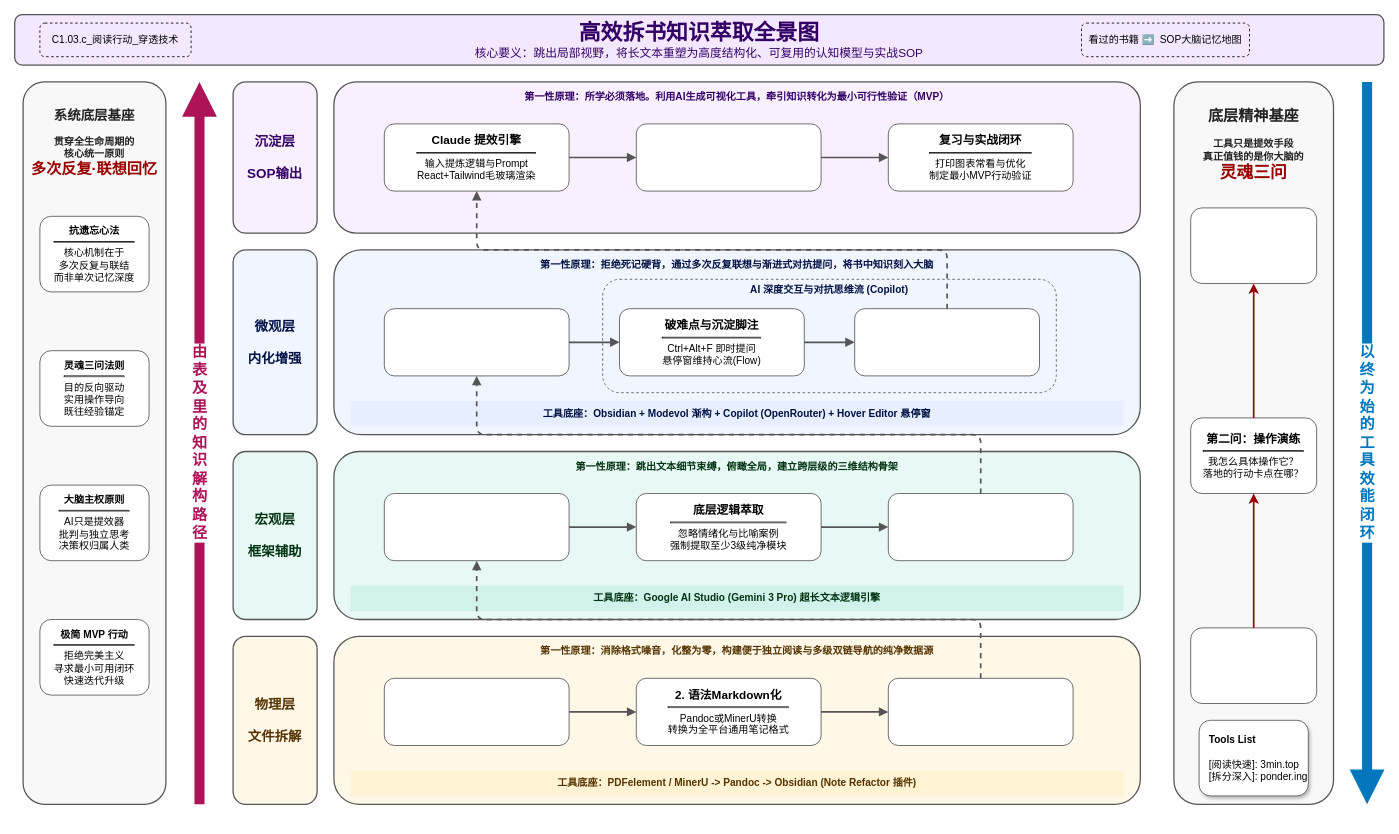
Some shapes in this 1399 by 834 pixel diagram are drawn without their labels. The centre of each missing label's shape, as x and y in pixels:
"1. 版式清洗 PDFelement-12+OCR提取 去除乱码与修正格式错误" belongs at (476,711).
"3. 章节切片与双链 按H1/H2标题切割文件 生成多级目录与双链导航" belongs at (980,711).
"一页清卡片生成 系统理论框架图输出 技术架构SOP图输出" belongs at (728,157).
"抓重点 (Modevol) 渐构标注段落核心目的 保持主旨不迷失于细节" belongs at (476,342).
"第一问：明确目的 我读这段目的是什么？ 知识如何为我所用？" belongs at (1253,245).
"第三问：同频校验 与我过去经验对比 有何创新与反共识？" belongs at (1253,665).
"红队批判与末尾QA 要求AI提供反面局限案例 生成百字QA辅助回忆复盘" belongs at (947,342).
"结构化骨架输出 用短词组渲染Markdown树 提炼一句话核心底层逻辑" belongs at (980,527).
"阅读顺序解构 折叠MD输入全文Prompt 分析一二级章节逻辑串联" belongs at (476,527).
